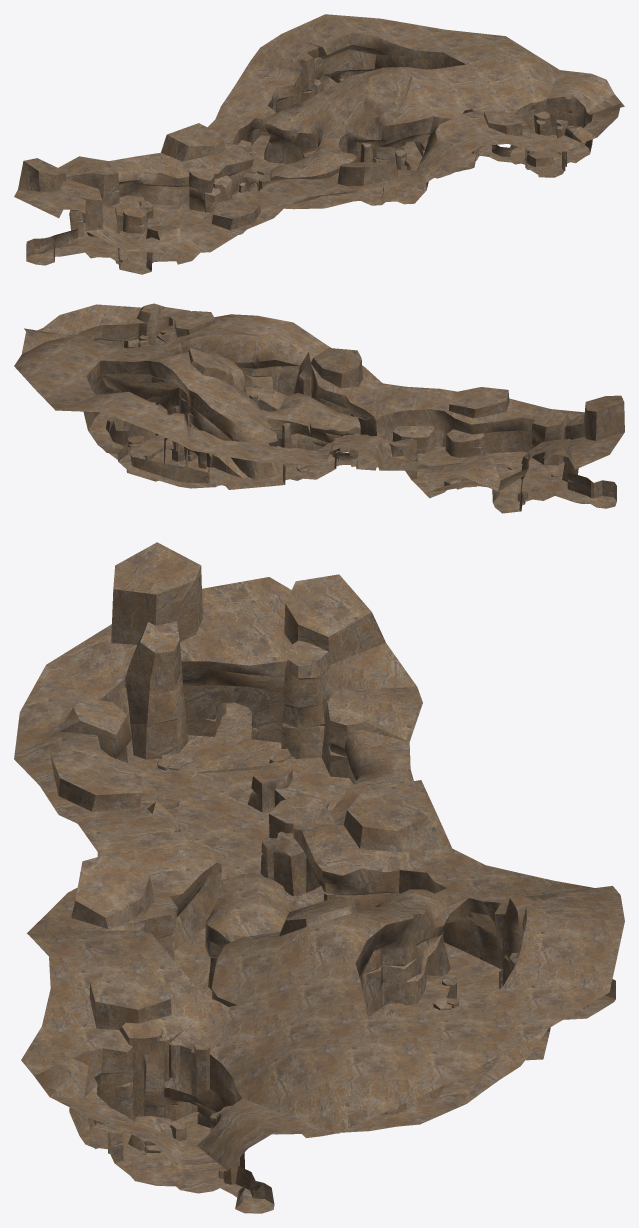
The model's file is trench pit.glb.
3 renders of one model, top to bottom at view 1: azimuth 30°, elevation 25°; view 2: azimuth 150°, elevation 25°; view 3: azimuth 270°, elevation 25°, orthographic. The views are drawn at different scales.
Parts seen in each view (by area): view 1: mesh; view 2: mesh; view 3: mesh.
Boxes of the visible parts, x1,y1,x2,y2 form: mesh: (14, 14, 624, 274); mesh: (14, 303, 624, 513); mesh: (14, 542, 624, 1213).
Size of what is drawn, in the model's own units: 547 by 79.19 by 265.
Materials: 1 (1 with a texture image).
